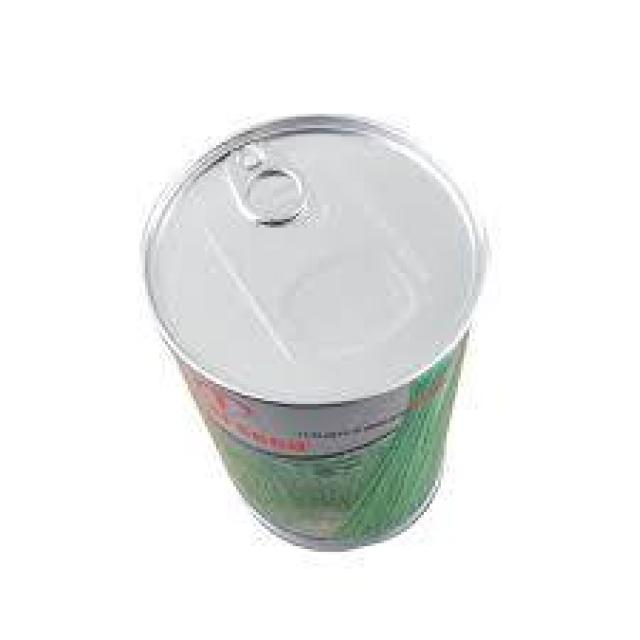-Recyclables - can-: (139, 108, 486, 554)
